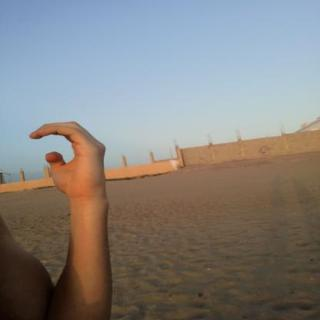JEEM: (17, 114, 118, 206)
